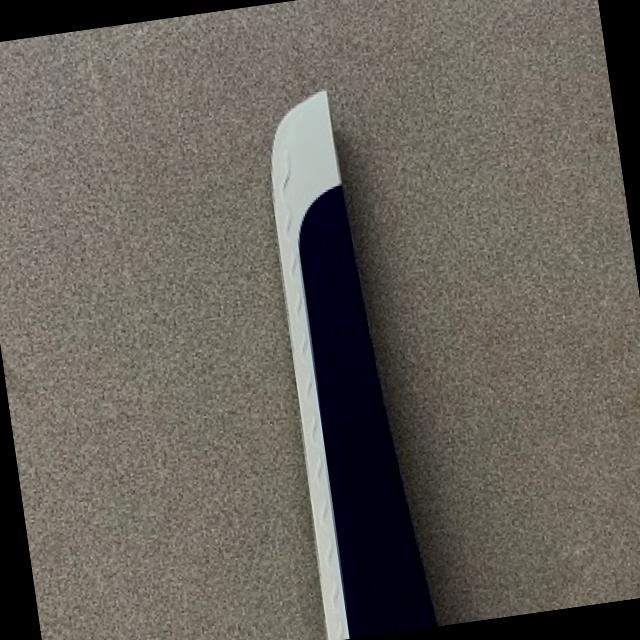healthy: (273, 90, 436, 639)
